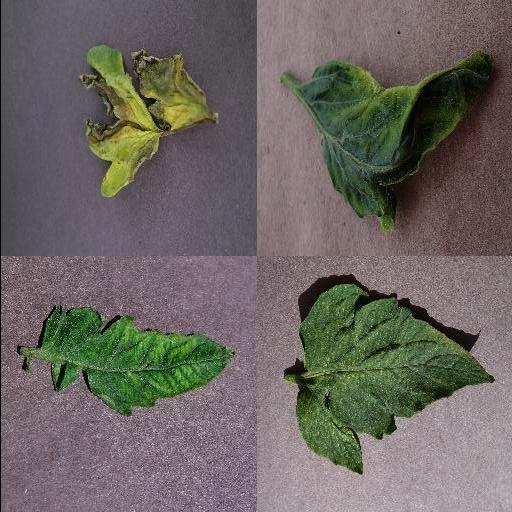Late Blight: (76, 47, 212, 199)
Mosaic Virus: (38, 306, 236, 418)
Spider Mites: (294, 284, 496, 474)
Yellow Leaf Curl Virus: (299, 50, 497, 230)
